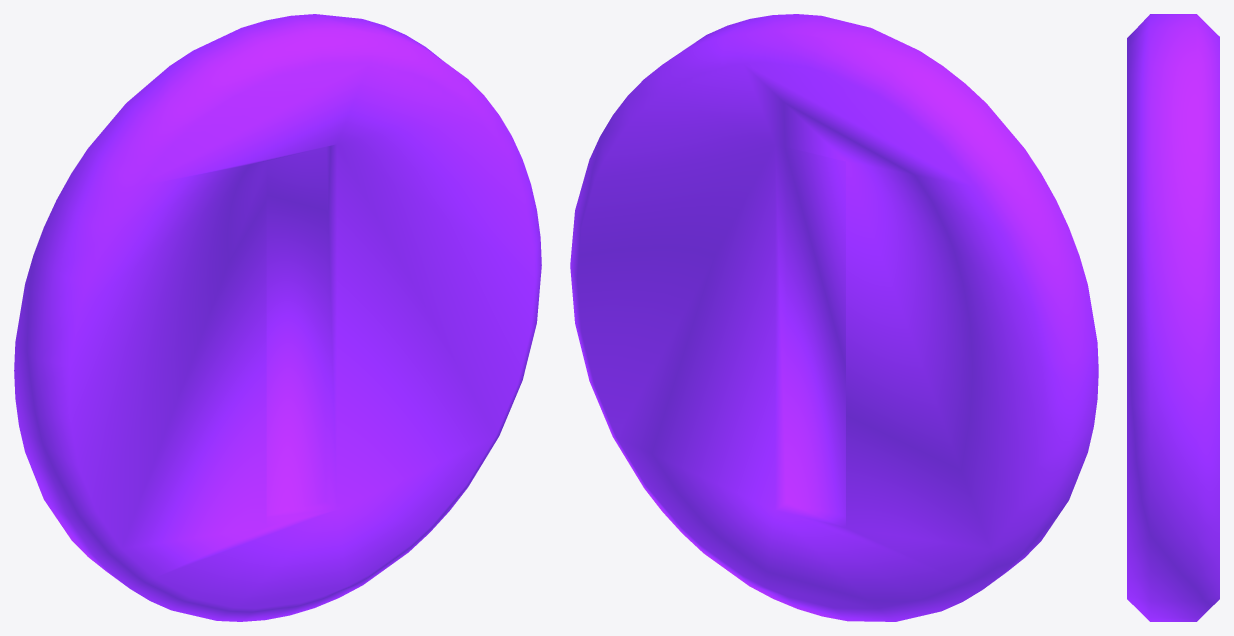
File: purple_coin.glb
The picture shows the model from 3 angles, left to right: view 1: azimuth 30°, elevation 25°; view 2: azimuth 150°, elevation 25°; view 3: azimuth 270°, elevation 25°; orthographic projection. The views are drawn at different scales.
Parts seen in each view (by area): view 1: Cylinder; view 2: Cylinder; view 3: Cylinder.
Boxes of the visible parts, left/top/right/bottom form: Cylinder: left=14, top=14, right=541, bottom=621; Cylinder: left=570, top=14, right=1098, bottom=621; Cylinder: left=1127, top=14, right=1219, bottom=621.
Bounding box in the file's own units: 1.83 × 2 × 0.3.
